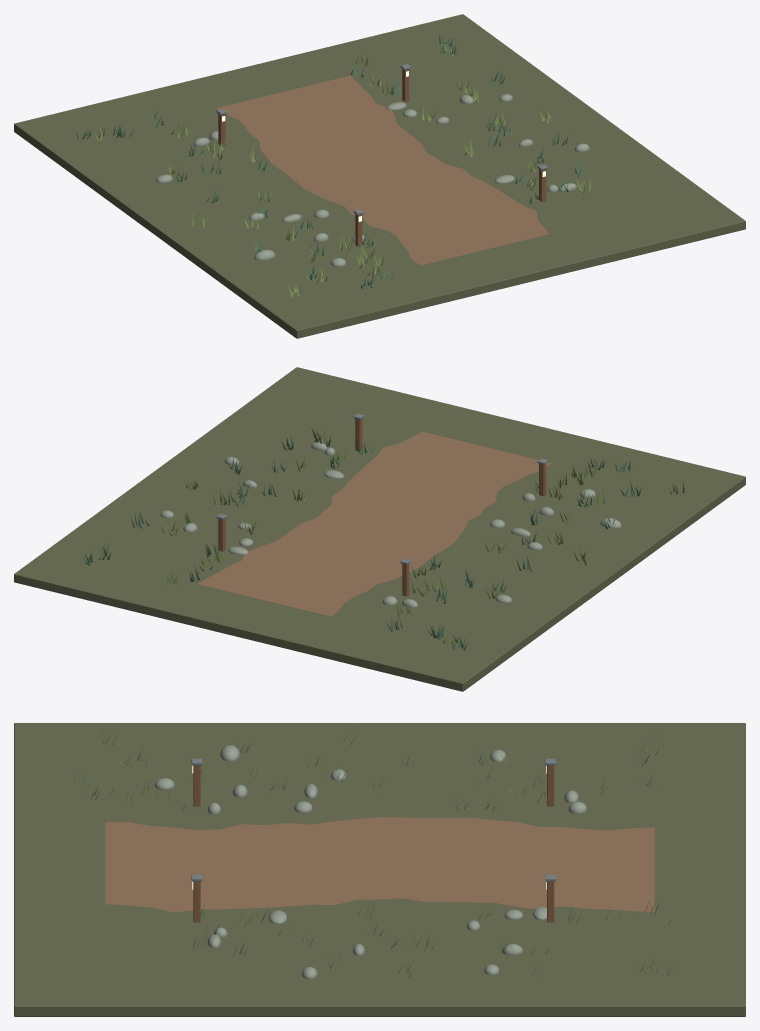
The model's file is AH01_Path.fbx.
3 renders of one model, top to bottom at view 1: azimuth 30°, elevation 25°; view 2: azimuth 150°, elevation 25°; view 3: azimuth 270°, elevation 25°, orthographic. The views are drawn at different scales.
Visible parts, largest first — view 1: AH01_Path_AH01_Ground, AH01_Path_AH01_Dirt, AH01_Path_AH01_LeafLight, AH01_Path_AH01_Leaf, AH01_Path_AH01_Stone, AH01_Path_AH01_Wood; view 2: AH01_Path_AH01_Ground, AH01_Path_AH01_Dirt, AH01_Path_AH01_LeafLight, AH01_Path_AH01_Leaf, AH01_Path_AH01_Stone, AH01_Path_AH01_Wood; view 3: AH01_Path_AH01_Ground, AH01_Path_AH01_Dirt, AH01_Path_AH01_Stone, AH01_Path_AH01_Wood, AH01_Path_AH01_LeafLight, AH01_Path_AH01_Leaf.
Boxes of the visible parts, <box> form: AH01_Path_AH01_Ground: <box>14,14,745,338</box>; AH01_Path_AH01_Dirt: <box>216,75,549,265</box>; AH01_Path_AH01_LeafLight: <box>95,42,590,297</box>; AH01_Path_AH01_Leaf: <box>75,34,585,289</box>; AH01_Path_AH01_Stone: <box>156,94,589,266</box>; AH01_Path_AH01_Wood: <box>218,69,546,246</box>; AH01_Path_AH01_Ground: <box>14,367,745,691</box>; AH01_Path_AH01_Dirt: <box>197,431,551,616</box>; AH01_Path_AH01_LeafLight: <box>99,425,684,643</box>; AH01_Path_AH01_Leaf: <box>84,435,639,650</box>; AH01_Path_AH01_Stone: <box>160,442,621,607</box>; AH01_Path_AH01_Wood: <box>218,419,546,596</box>; AH01_Path_AH01_Ground: <box>14,723,745,1016</box>; AH01_Path_AH01_Dirt: <box>105,817,654,912</box>; AH01_Path_AH01_Stone: <box>154,745,587,978</box>; AH01_Path_AH01_Wood: <box>193,765,554,922</box>; AH01_Path_AH01_LeafLight: <box>99,728,678,977</box>; AH01_Path_AH01_Leaf: <box>74,733,678,977</box>.
Size of the model in its own units: 1100 by 103 by 1200.
